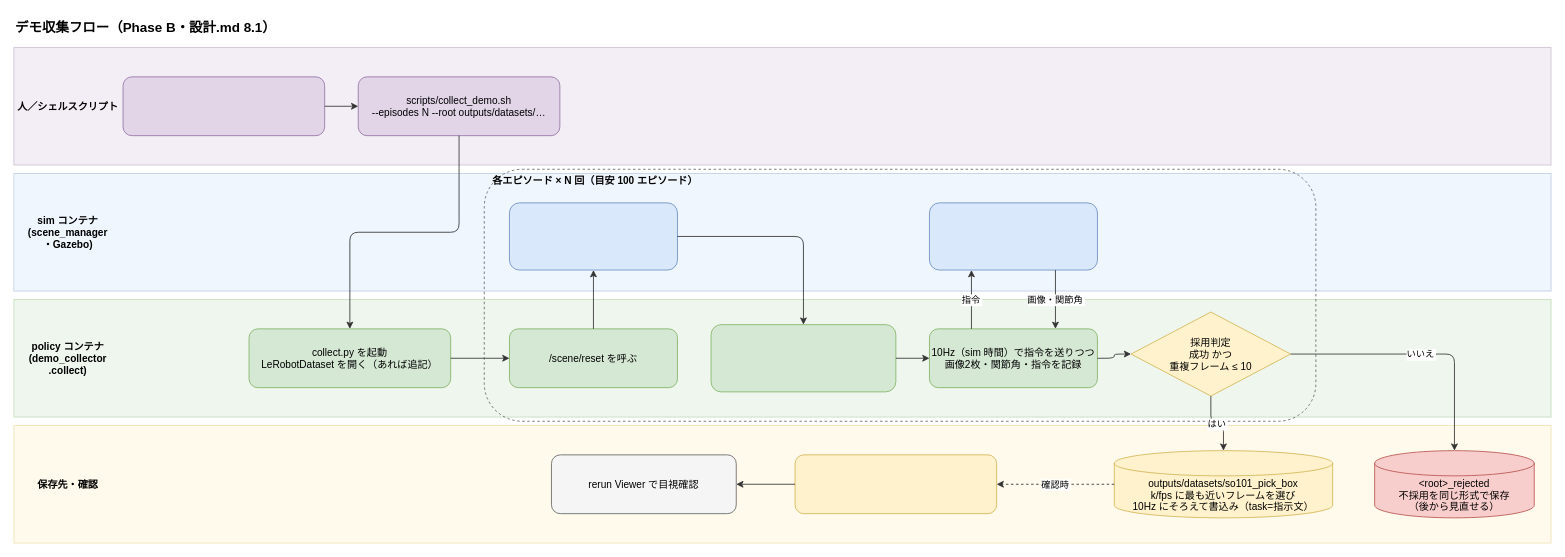
Some shapes in this 1565 by 557 pixel diagram are drawn without their labels. The shapes that lost their labels are listed below. From the top down, each one's centre as x and y in pixels, then its label:
the point at 223,106: scripts/sim_restart.sh sim を起動・outputs/so101.urdf を書き出し
the point at 593,236: 箱を左右2か所＋±3cm ずらして配置 赤青の左右もランダム入替 /scene/status を配信
the point at 1013,236: ros2_control がアームを動かす 疑似把持 B1・箱の持ち上げ判定
the point at 803,358: 対象色を決め指示文を作る 'pick up the {color} box' ikpy で経由点を計算（ずれを付与）
the point at 895,484: scripts/dataset_to_rrd.py エピソードを .rrd に変換
